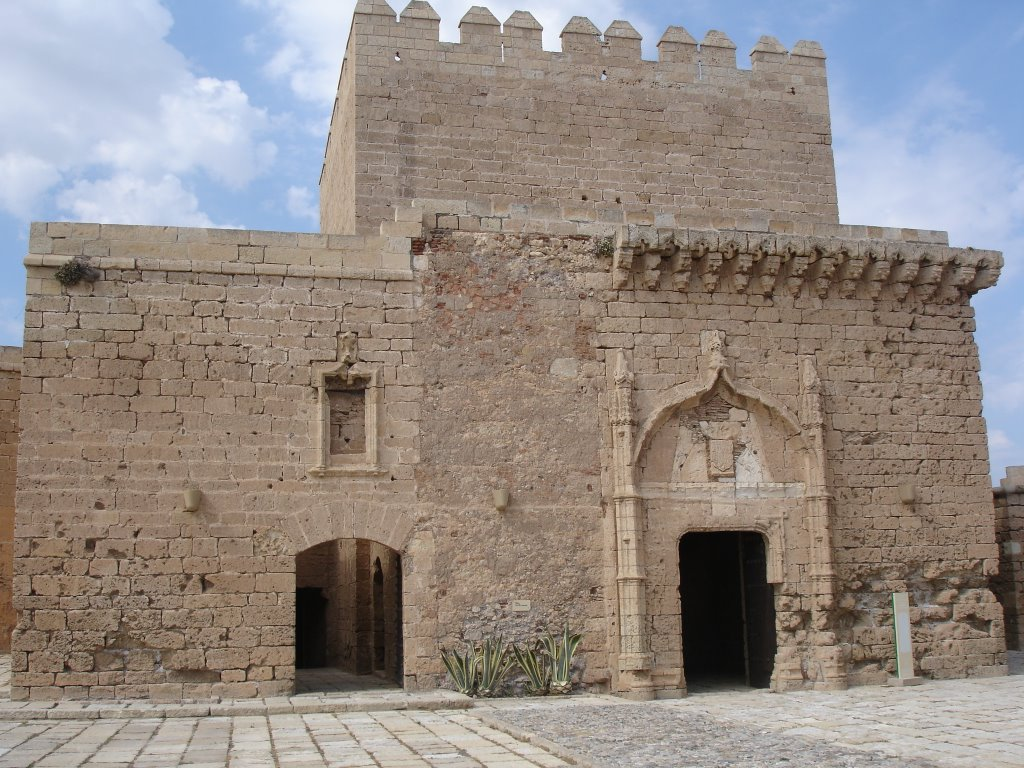arco-conopial: (639, 353, 813, 444)
